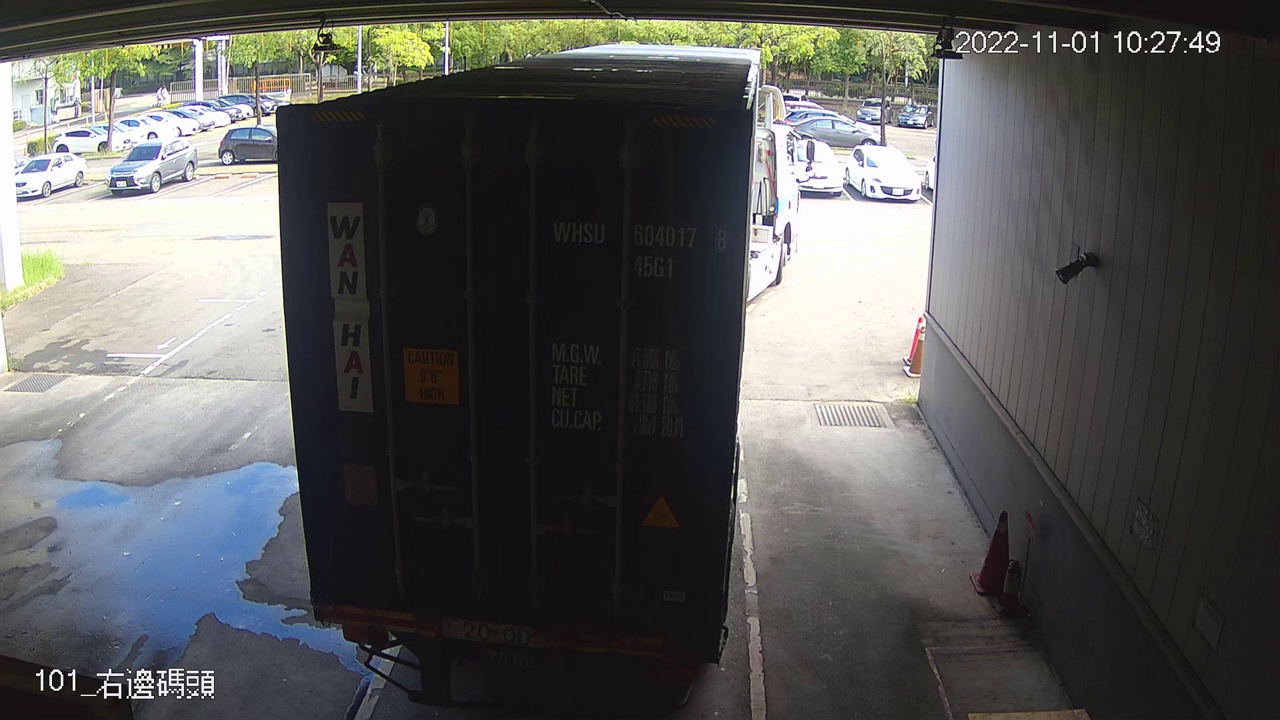container: (541, 207, 735, 287)
